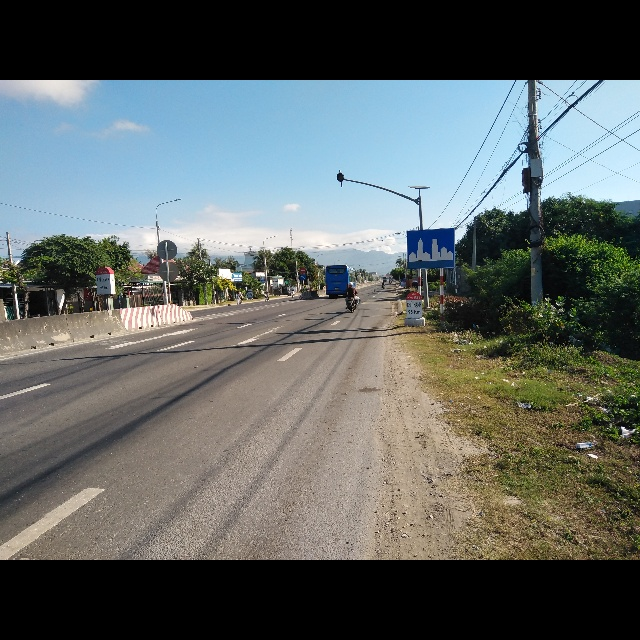Khu đông dân cư: (408, 225, 457, 268)
